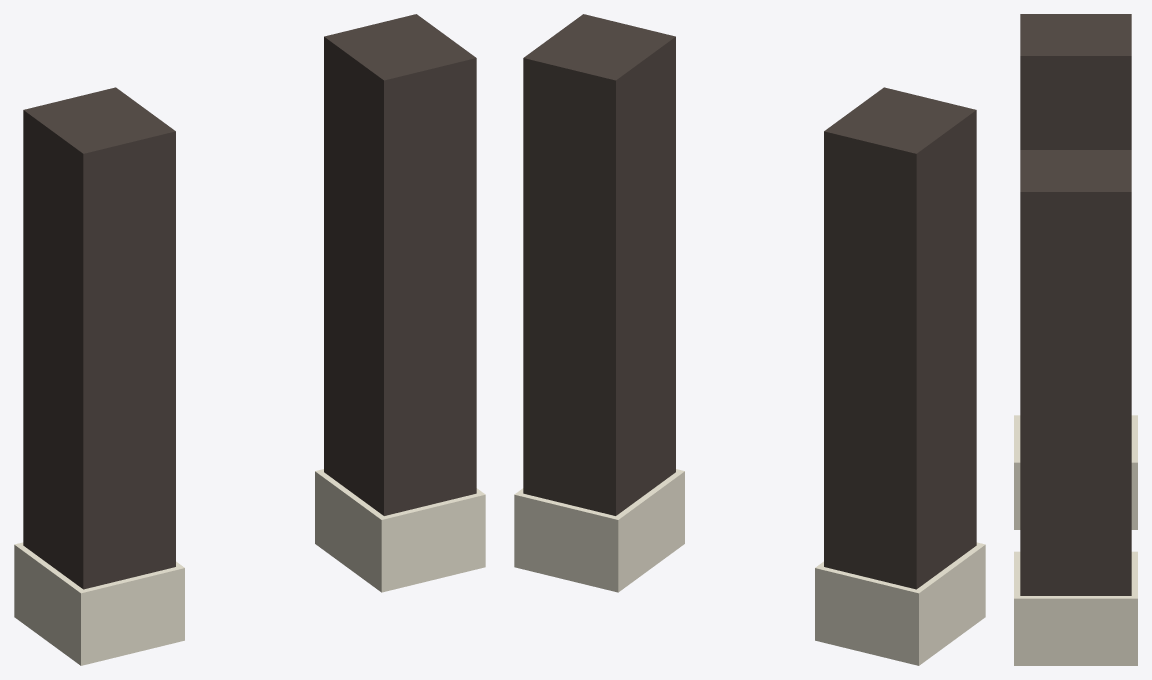
The model's file is VJ_Toro_Patas.fbx.
The picture shows the model from 3 angles, left to right: view 1: azimuth 30°, elevation 25°; view 2: azimuth 150°, elevation 25°; view 3: azimuth 270°, elevation 25°; orthographic projection. The views are drawn at different scales.
Visible parts, largest first — view 1: VJ_Toro_Patas; view 2: VJ_Toro_Patas; view 3: VJ_Toro_Patas.
Part boxes in pixels (left/top/right/bottom): VJ_Toro_Patas: left=14, top=14, right=485, bottom=665; VJ_Toro_Patas: left=514, top=14, right=985, bottom=665; VJ_Toro_Patas: left=1014, top=14, right=1137, bottom=665.
Size of the model in its own units: 0.7 by 0.84 by 0.2.
